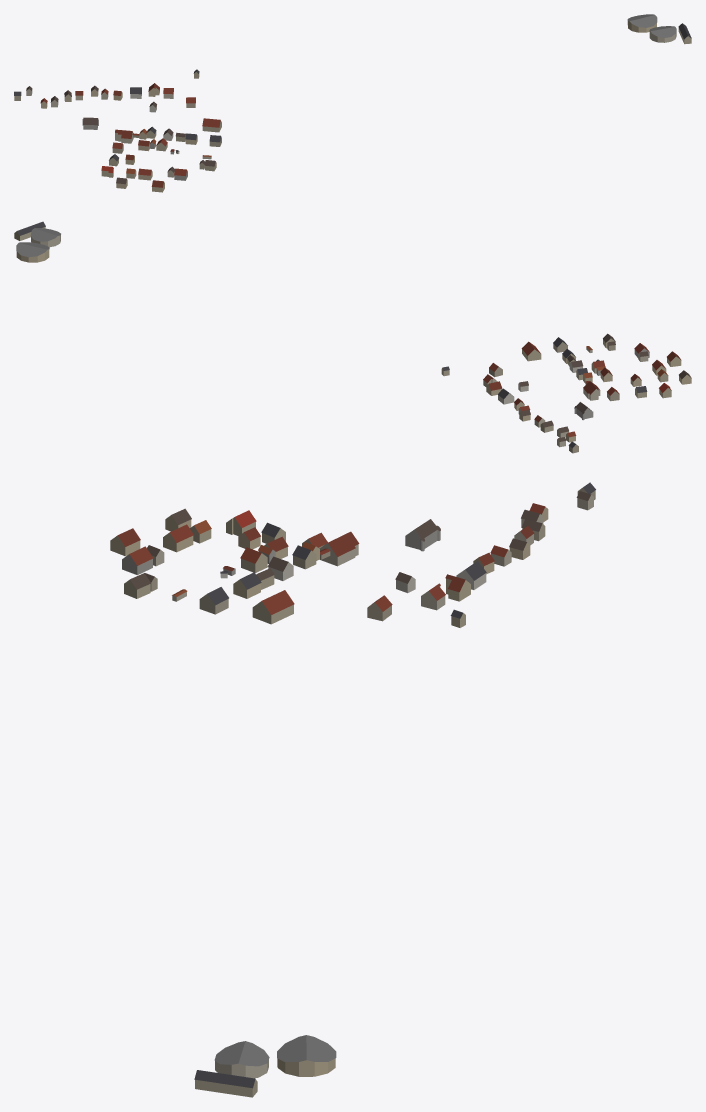
3 views of the same model, one above another, from view 1: azimuth 30°, elevation 25°; view 2: azimuth 150°, elevation 25°; view 3: azimuth 270°, elevation 25° (orthographic). The views are drawn at different scales.
Visible parts, largest first — view 1: buildings; view 2: buildings; view 3: buildings.
Boxes of the visible parts, <box> form: buildings: <box>14,14,691,192</box>; buildings: <box>14,221,691,453</box>; buildings: <box>110,482,595,1097</box>.
Bounding box in the file's own units: 749 × 36.54 × 268.
